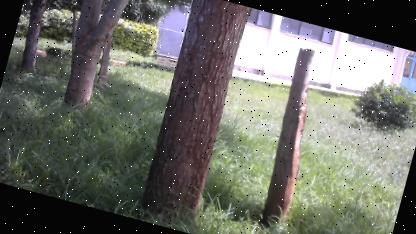tree: (125, 0, 264, 234), (246, 43, 338, 234), (45, 0, 146, 124), (345, 69, 416, 144)
